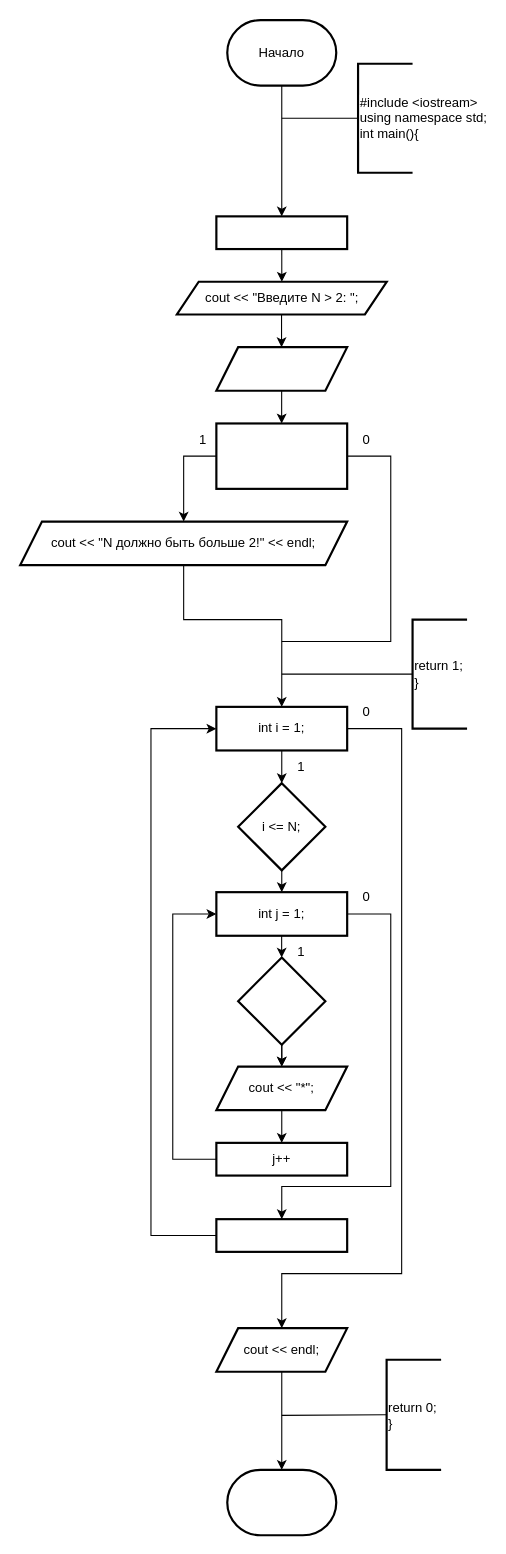
The diagram is 506 pixels wide and 1554 high, and some of its shapes have lost their labels. The centre of each missing label's shape, as x and y in pixels:
"cin >> N;" belongs at pixel 281 368.
"i++" belongs at pixel 281 1235.
"if (N <= 2)" belongs at pixel 281 455.
"int N;" belongs at pixel 281 232.
"j <= i;" belongs at pixel 281 1000.
"Конец" belongs at pixel 281 1502.
